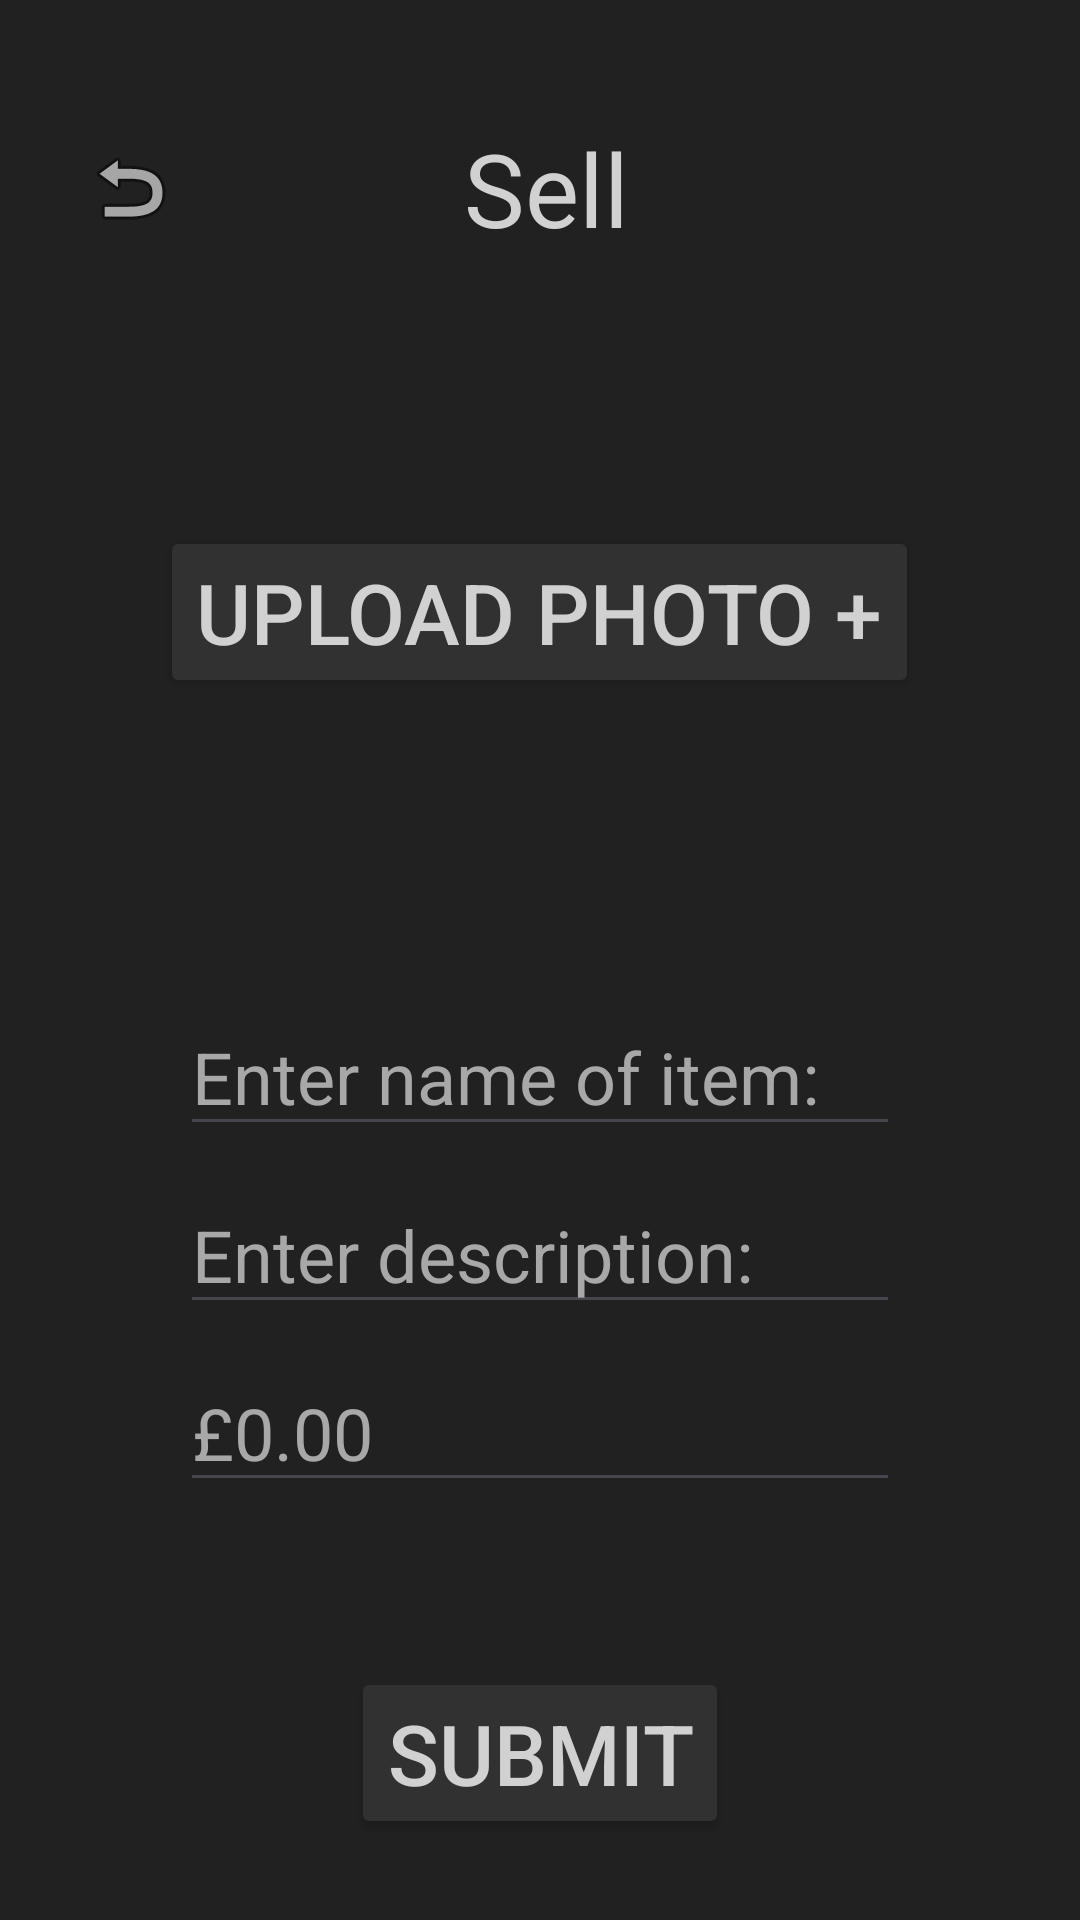

Point at icon controls on the screen. Image size 1080 x 1920, points as (x=x, y=y).
revert: (x=131, y=188)
